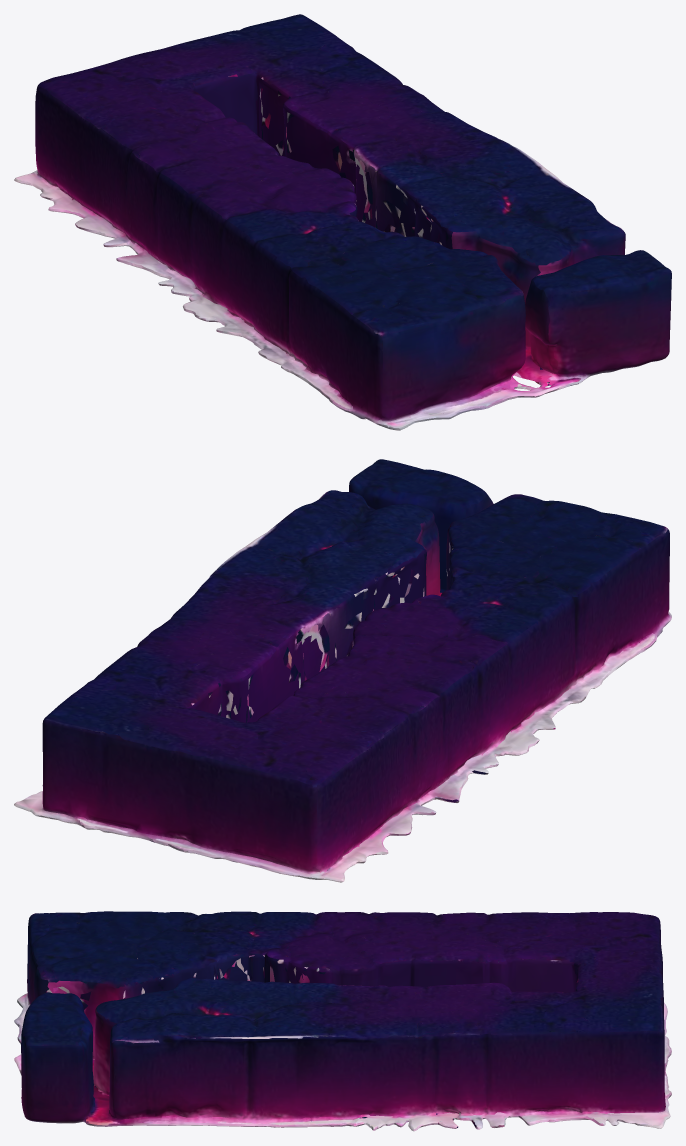
Rendered from approach-stone-1-generated-2026-05-17T18-16-39-754Z.medium.glb.
3 views of the same model, one above another, from view 1: azimuth 30°, elevation 25°; view 2: azimuth 150°, elevation 25°; view 3: azimuth 270°, elevation 25° (orthographic). The views are drawn at different scales.
Parts seen in each view (by area): view 1: temp_mesh.ply; view 2: temp_mesh.ply; view 3: temp_mesh.ply.
Boxes of the visible parts, x1,y1,x2,y2 form: temp_mesh.ply: (14, 14, 671, 430); temp_mesh.ply: (14, 459, 671, 882); temp_mesh.ply: (14, 911, 671, 1131).
Size of the model in its own units: 1.06 by 0.3049 by 1.97.
1 material, 1 textured.
